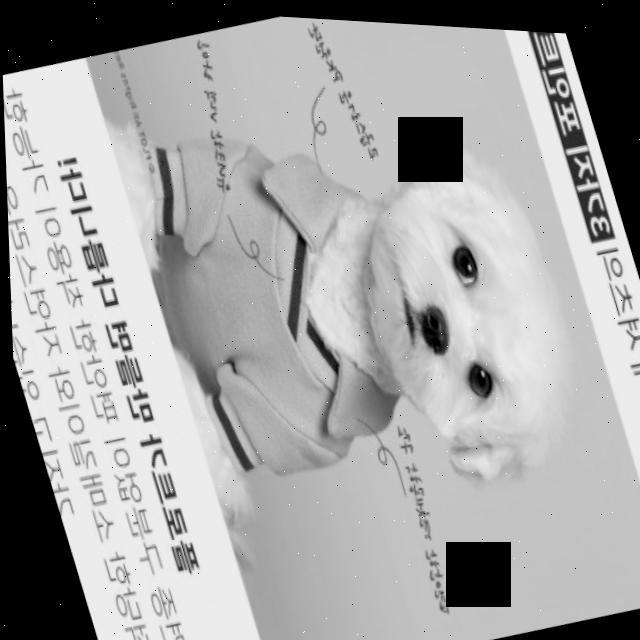cloth: (148, 135, 393, 471)
